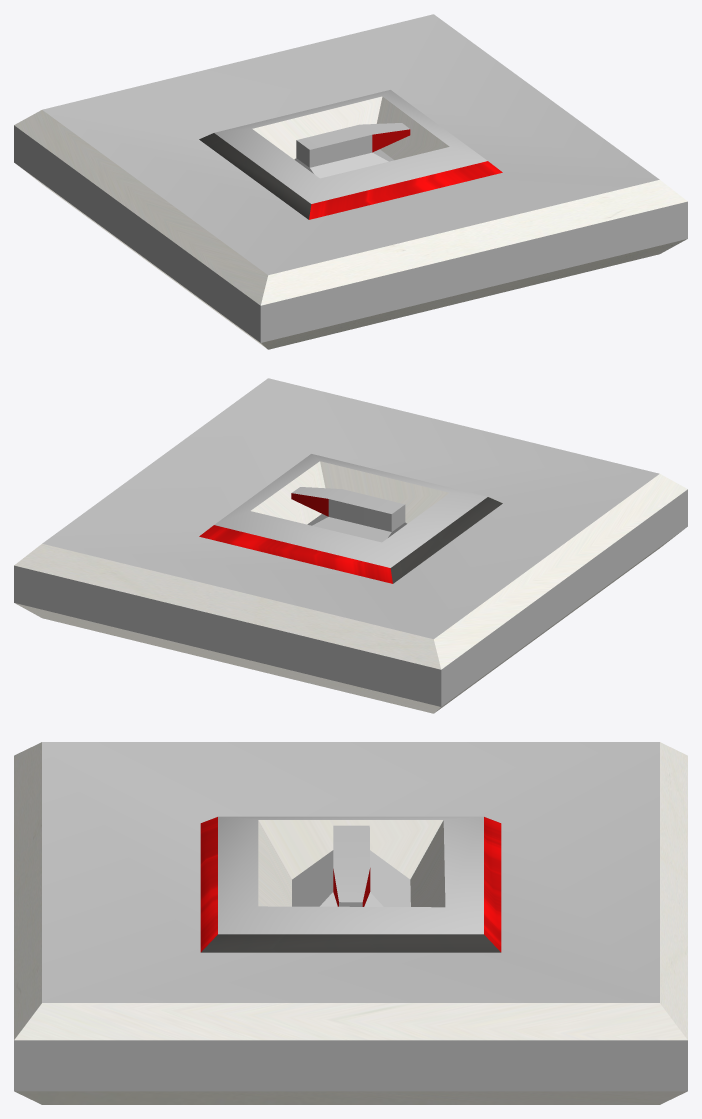
File: hatch.fbx
The picture shows the model from 3 angles, top to bottom: view 1: azimuth 30°, elevation 25°; view 2: azimuth 150°, elevation 25°; view 3: azimuth 270°, elevation 25°; orthographic projection. The views are drawn at different scales.
Visible parts, largest first — view 1: pCube1; view 2: pCube1; view 3: pCube1.
Boxes of the visible parts, left/top/right/bottom form: pCube1: left=14, top=14, right=687, bottom=349; pCube1: left=14, top=378, right=687, bottom=713; pCube1: left=14, top=742, right=687, bottom=1104.
Size of the model in its own units: 3 by 0.6502 by 3.
